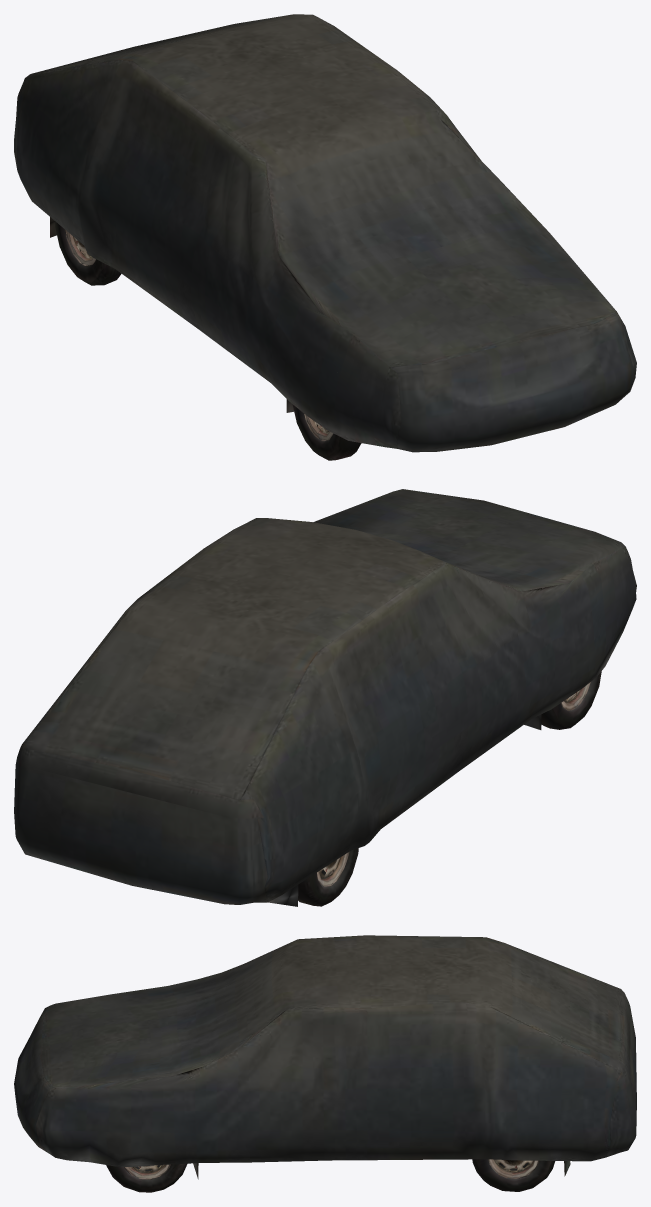
The model's file is car.glb.
The picture shows the model from 3 angles, top to bottom: view 1: azimuth 30°, elevation 25°; view 2: azimuth 150°, elevation 25°; view 3: azimuth 270°, elevation 25°; orthographic projection. The views are drawn at different scales.
Parts seen in each view (by area): view 1: covered_car_wheel_01; view 2: covered_car_wheel_01; view 3: covered_car_wheel_01.
Part boxes in pixels (bbox=[...]): covered_car_wheel_01: bbox=[14, 14, 636, 460]; covered_car_wheel_01: bbox=[14, 489, 636, 906]; covered_car_wheel_01: bbox=[14, 935, 636, 1192].
Size of the model in its own units: 1.79 by 1.41 by 4.38.
Materials: 1 (1 with a texture image).
